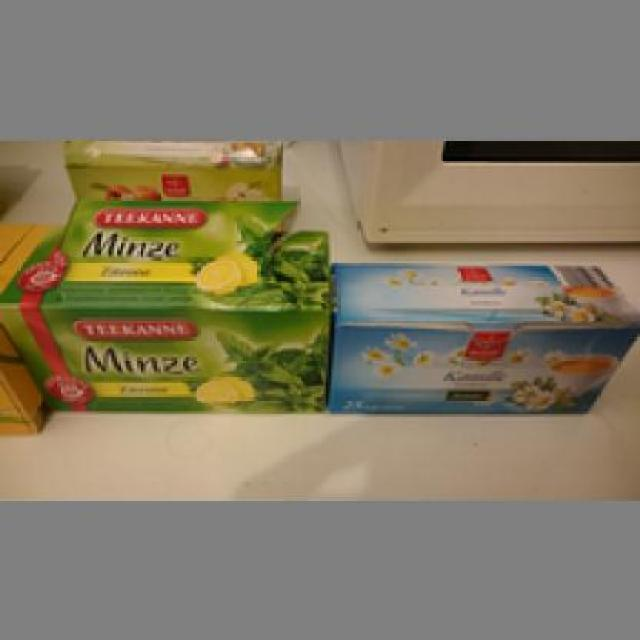Tea: (0, 233, 329, 410), (323, 260, 634, 414)
